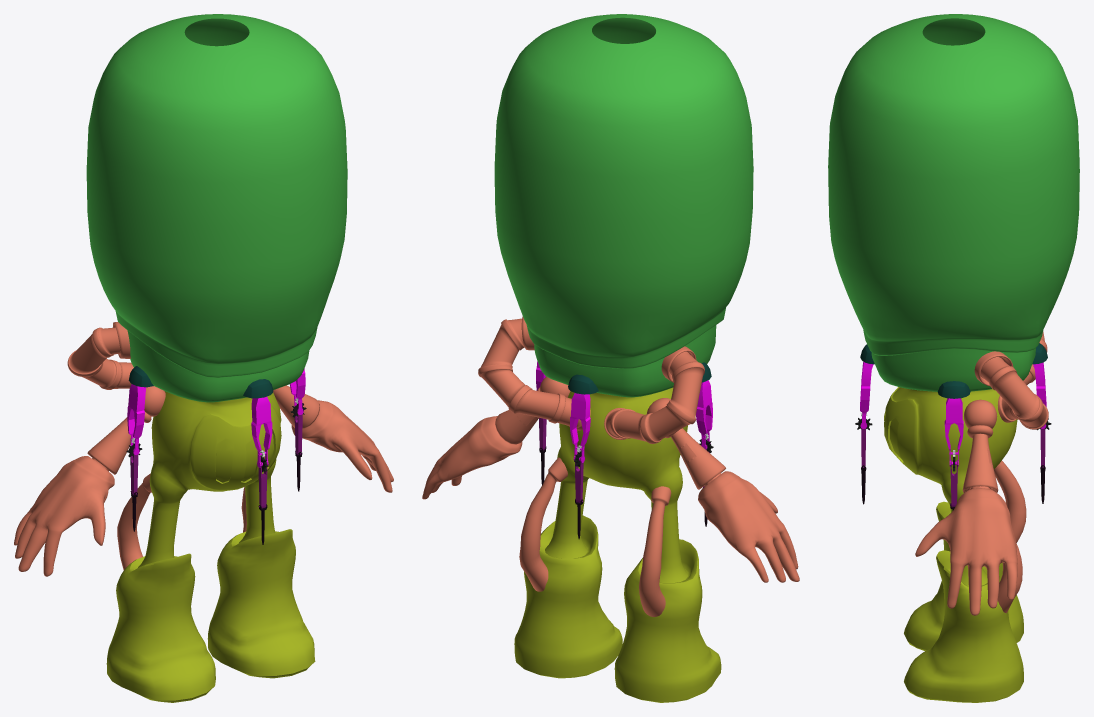
Rendered from plantita.fbx.
3 renders of one model, left to right at view 1: azimuth 30°, elevation 25°; view 2: azimuth 150°, elevation 25°; view 3: azimuth 270°, elevation 25°, orthographic.
Parts seen in each view (by area): view 1: cabeza, body, brazo, pata sup, pata sup002, c joints; view 2: cabeza, body, brazo, pata sup001, pata sup002, c joints; view 3: cabeza, body, brazo, c joints, pata sup003, pata sup, pata sup001.
Boxes of the visible parts, <box> form: cabeza: <box>86,14,347,402</box>; body: <box>106,391,315,702</box>; brazo: <box>14,322,393,576</box>; pata sup: <box>251,396,272,467</box>; pata sup002: <box>127,384,146,454</box>; c joints: <box>128,366,273,398</box>; cabeza: <box>494,14,753,397</box>; body: <box>514,387,721,702</box>; brazo: <box>422,316,799,616</box>; pata sup001: <box>570,393,590,462</box>; pata sup002: <box>696,380,712,449</box>; c joints: <box>568,362,711,394</box>; cabeza: <box>828,14,1079,391</box>; body: <box>884,387,1023,702</box>; brazo: <box>915,331,1048,615</box>; c joints: <box>860,343,1047,398</box>; pata sup003: <box>944,398,963,466</box>; pata sup: <box>860,361,873,428</box>; pata sup001: <box>1033,362,1046,428</box>.
Size of the model in its own units: 81.63 by 133 by 48.27.
